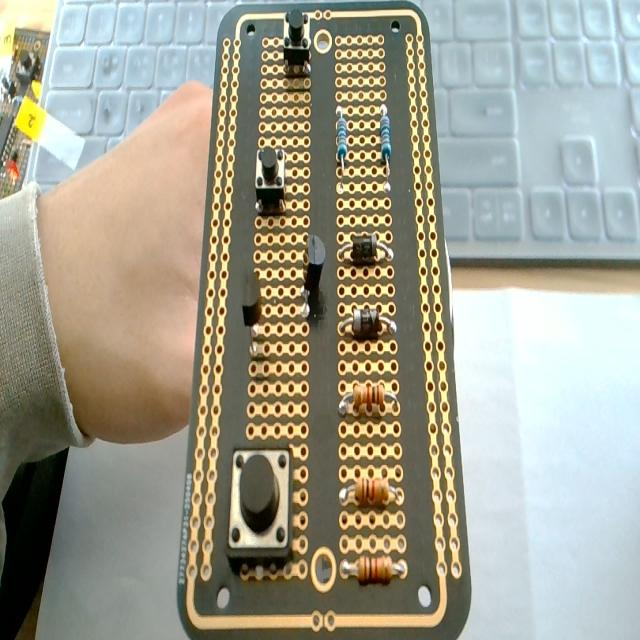diode: (246, 344, 310, 441), (339, 307, 395, 339), (338, 234, 391, 265)
resistor: (340, 384, 398, 417), (342, 555, 404, 584), (341, 478, 400, 507), (379, 101, 392, 191), (336, 105, 348, 183)
switch: (228, 447, 292, 558), (255, 145, 287, 214), (282, 7, 311, 76)
transistor: (300, 235, 327, 313), (242, 271, 264, 356)
